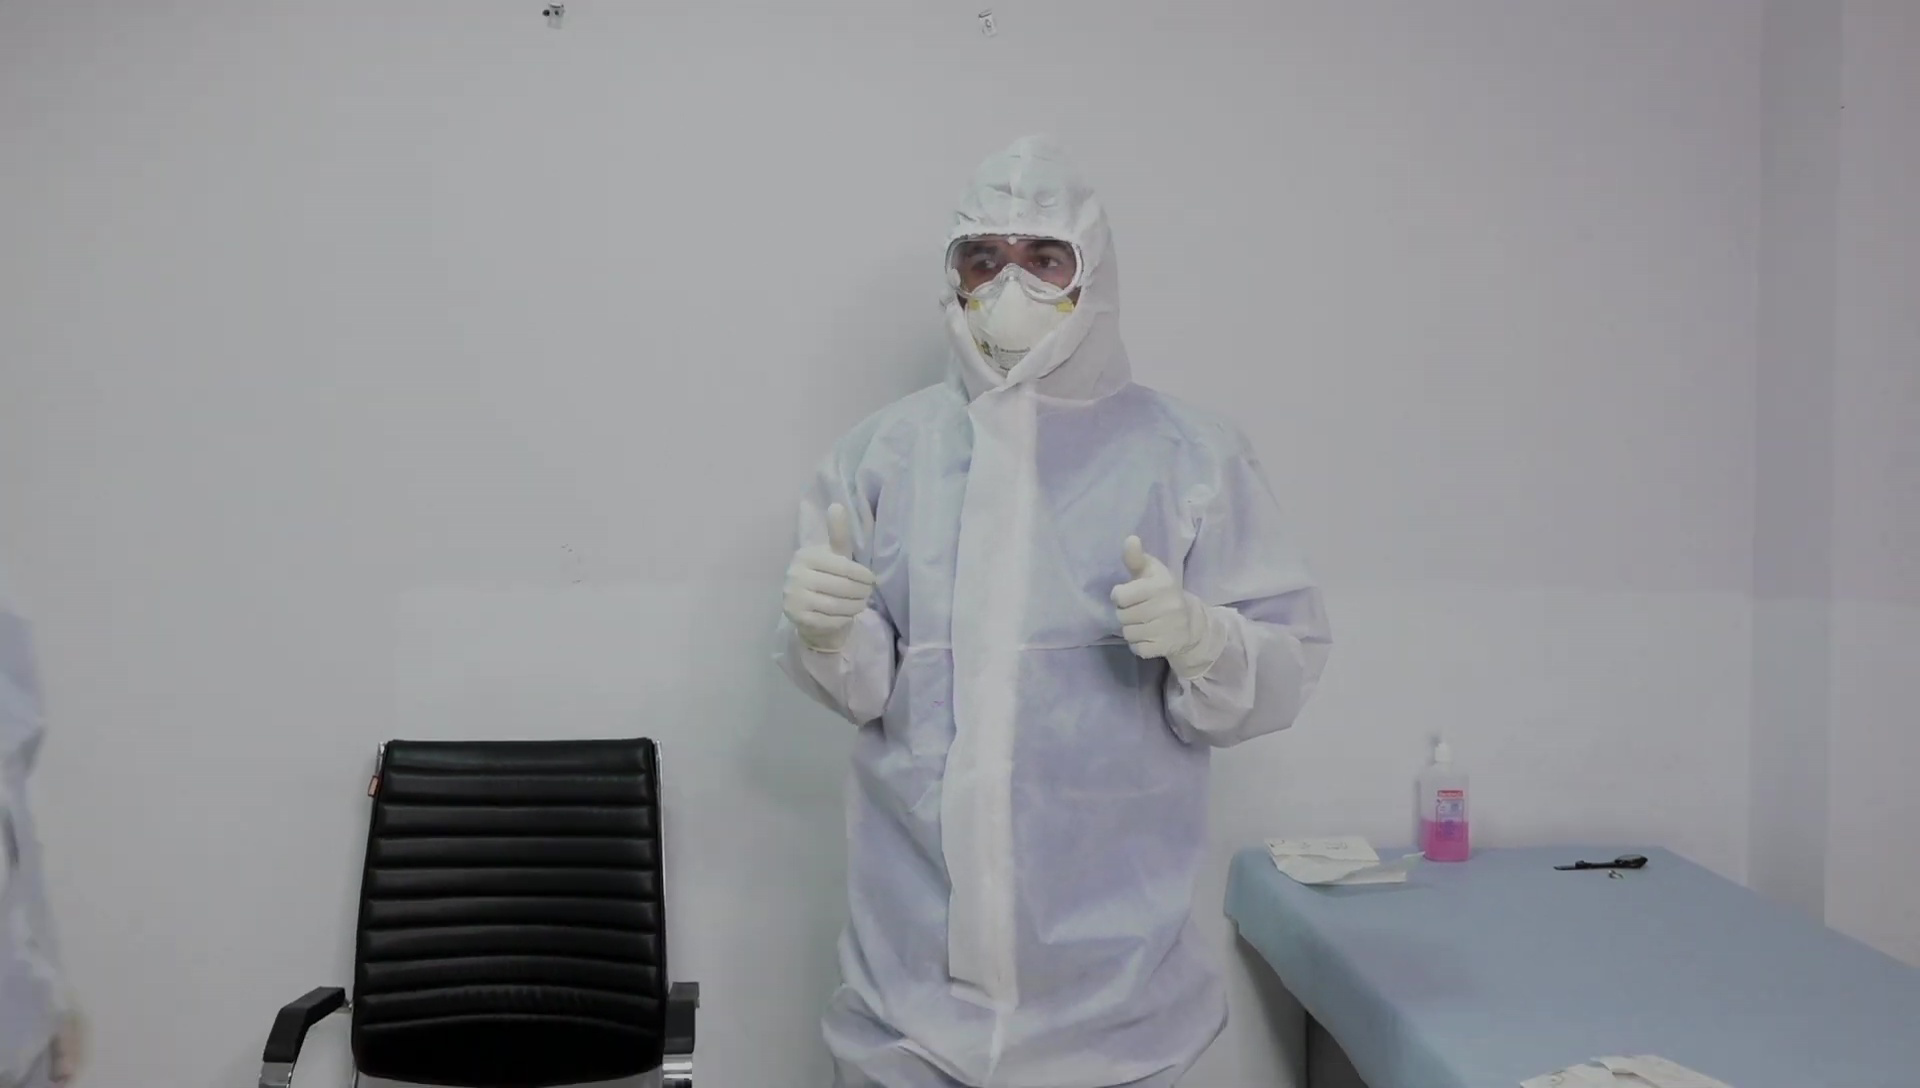Coverall: (776, 133, 1329, 1086)
Gloves: (780, 500, 878, 641), (1109, 532, 1194, 662)
Goggles: (941, 227, 1087, 305)
with_mask: (961, 265, 1076, 376)
